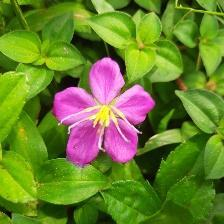malabar melastome: (54, 57, 158, 169)
